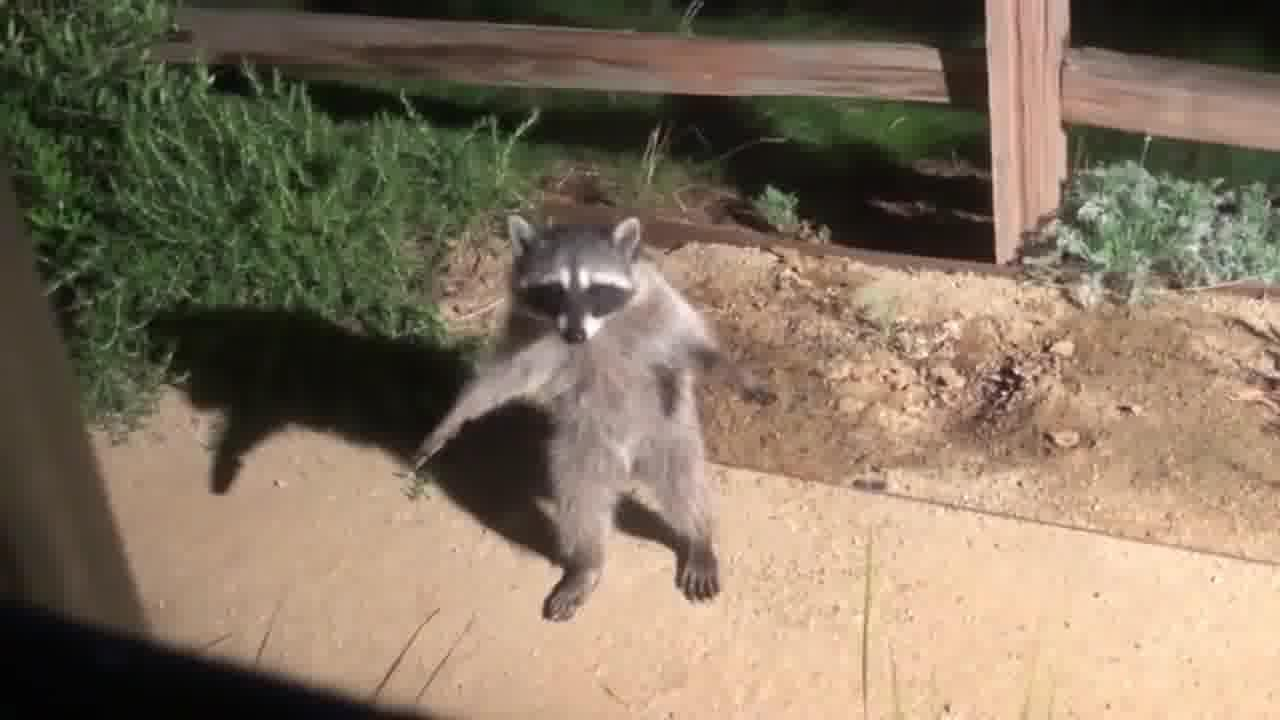raccoon: (402, 204, 788, 634)
